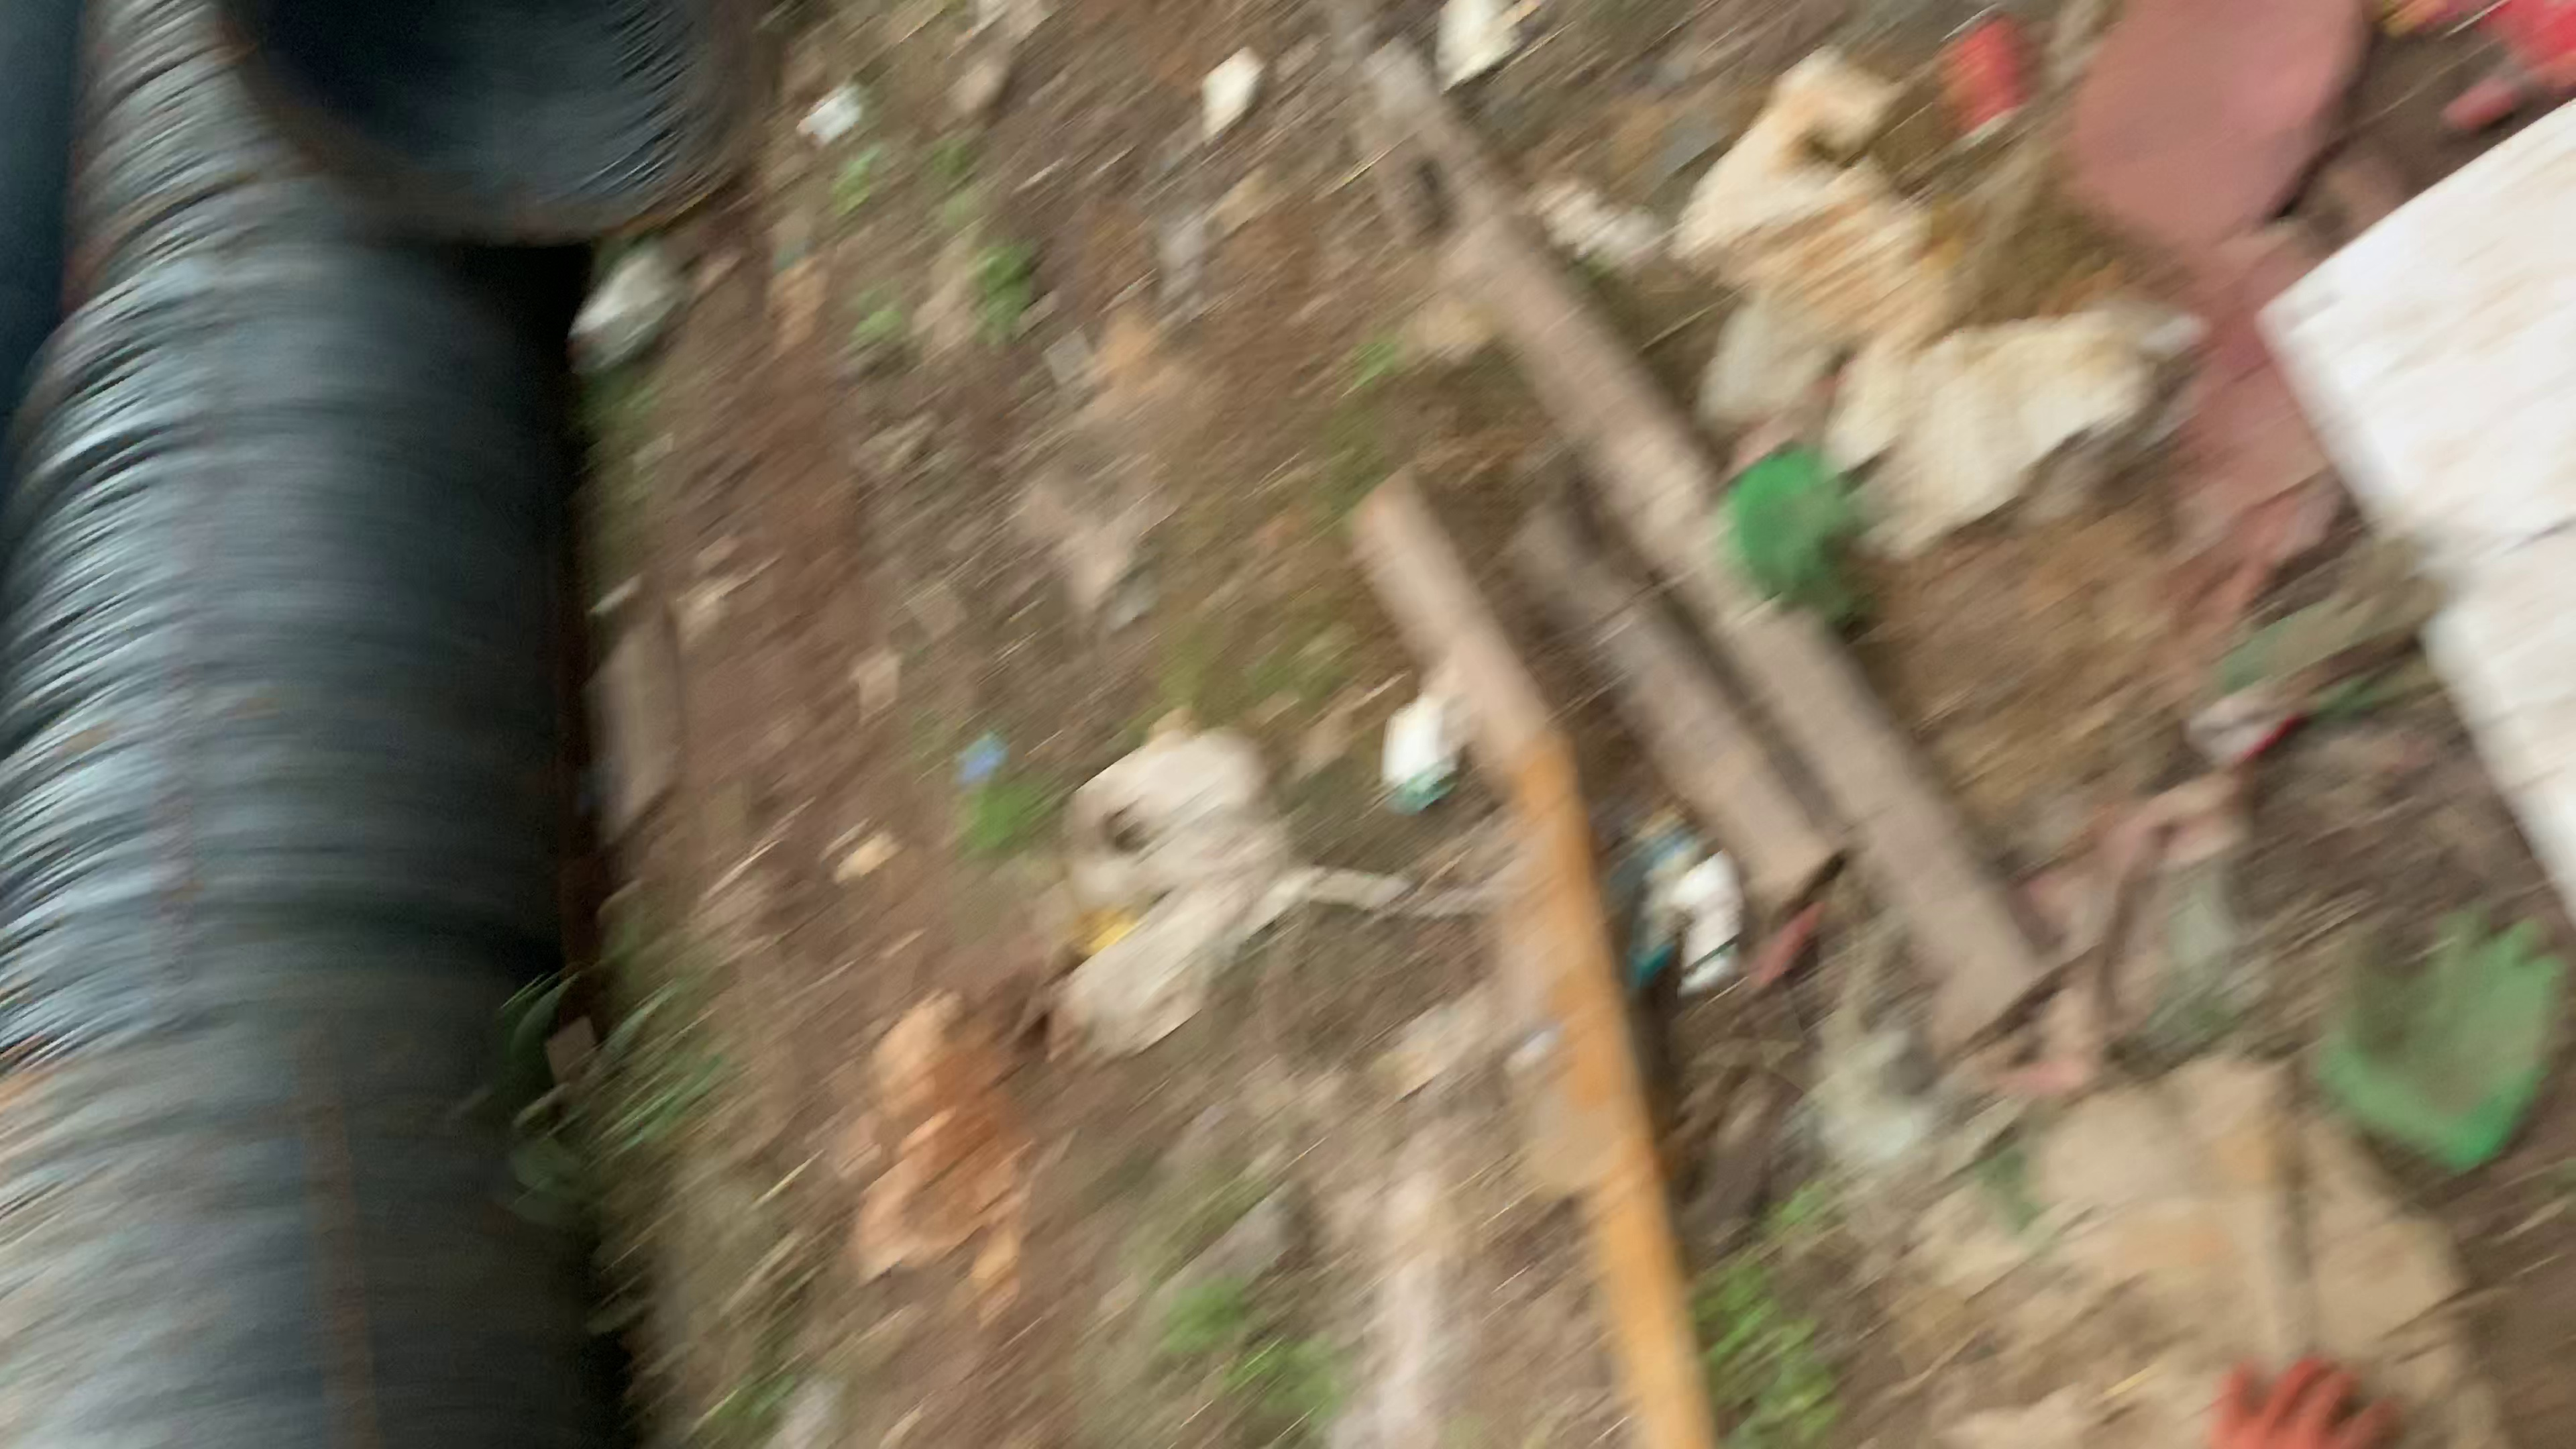coil: (166, 0, 803, 283)
